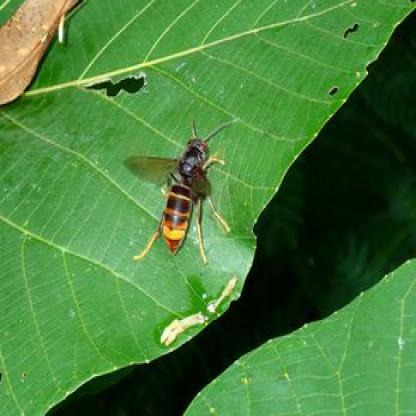Asian Hornet: (129, 128, 225, 262)
